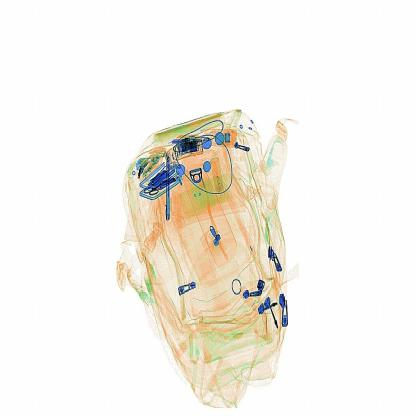pliers: (161, 153, 180, 227)
